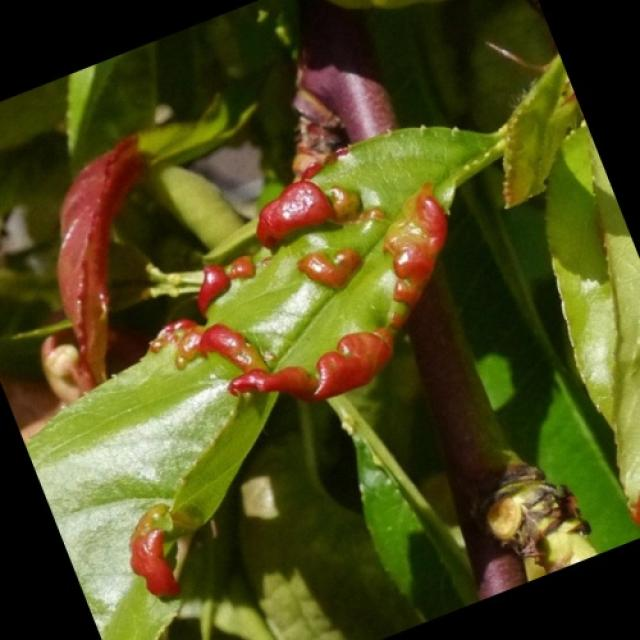peach_leaf_curl: (172, 159, 444, 430)
